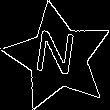N_S: (34, 30, 82, 85)
